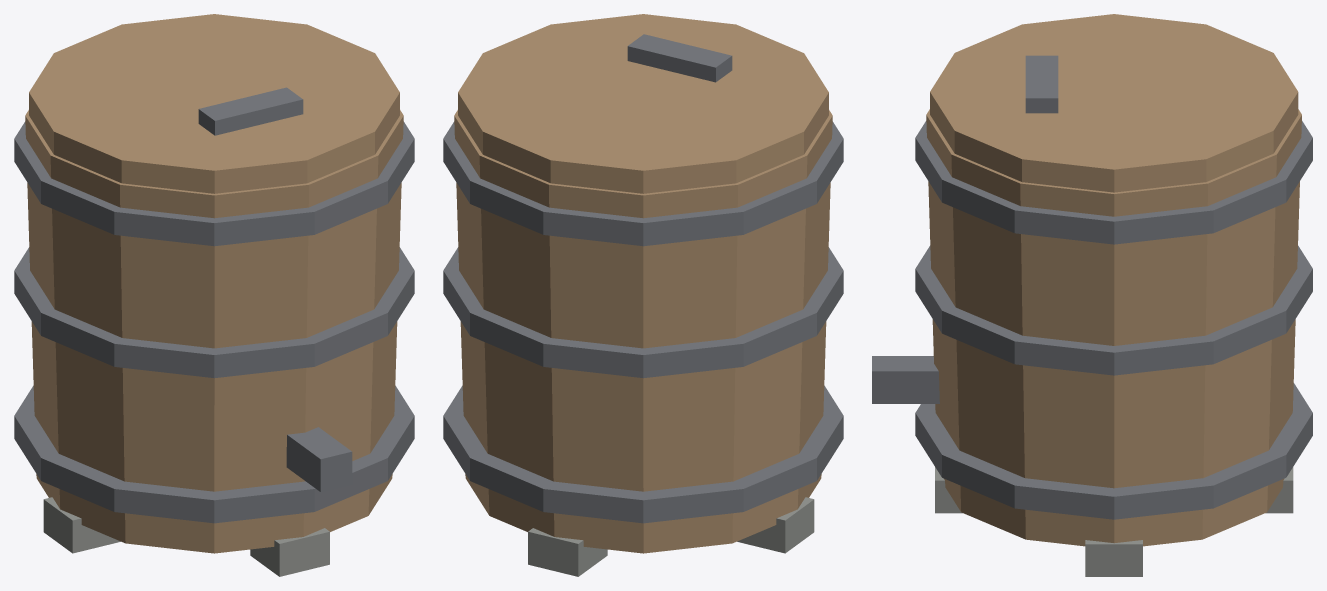
Rendered from lighthouse-and-rocky-coast-water-butt-4af167d2__36597.glb.
3 renders of one model, left to right at view 1: azimuth 30°, elevation 25°; view 2: azimuth 150°, elevation 25°; view 3: azimuth 270°, elevation 25°, orthographic.
Parts seen in each view (by area): view 1: water-butt, lid/timber, lid/iron; view 2: water-butt, lid/timber, lid/iron; view 3: water-butt, lid/timber, lid/iron.
Part boxes in pixels (x1=…): water-butt: x1=14, y1=110, x2=414, y2=576; lid/timber: x1=29, y1=14, x2=399, y2=193; lid/iron: x1=198, y1=87, x2=303, y2=135; water-butt: x1=443, y1=110, x2=843, y2=576; lid/timber: x1=458, y1=14, x2=828, y2=193; lid/iron: x1=627, y1=34, x2=732, y2=82; water-butt: x1=872, y1=109, x2=1312, y2=576; lid/timber: x1=930, y1=14, x2=1298, y2=192; lid/iron: x1=1025, y1=55, x2=1058, y2=113.
Bounding box in the file's own units: 1.1 × 1.3 × 1.22.
